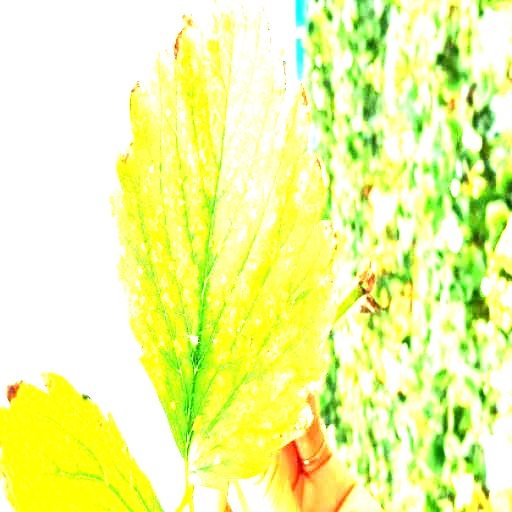Angular Leafspot: (106, 0, 340, 493), (0, 370, 167, 511)
